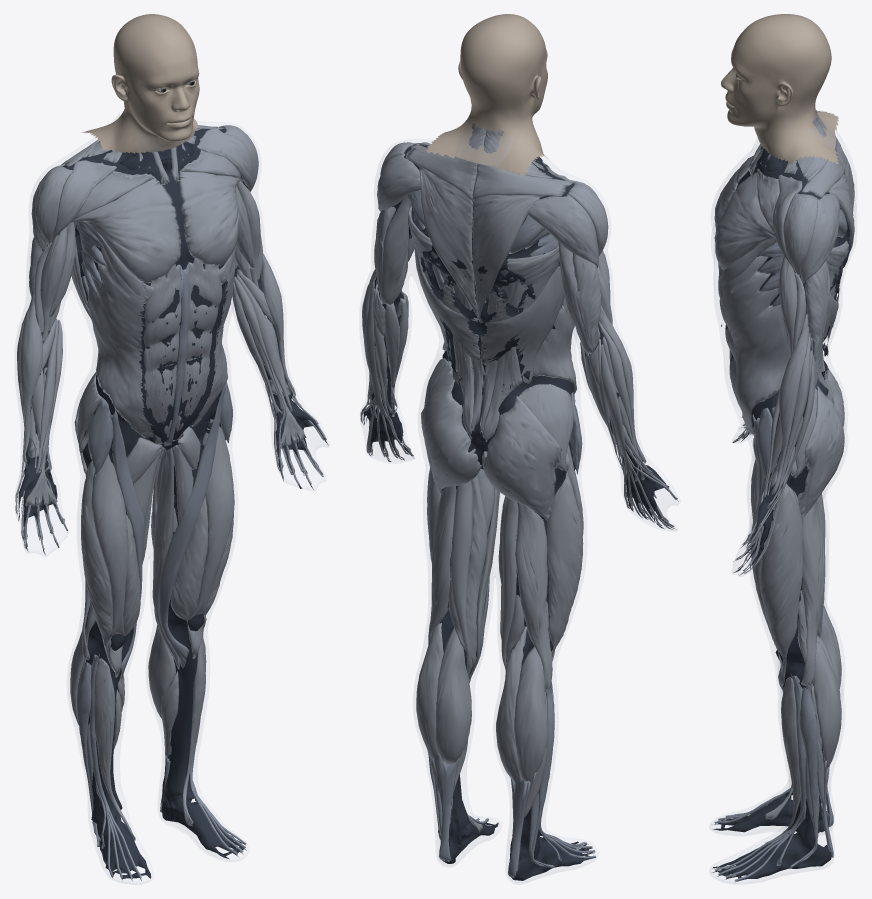
File: male.glb
The picture shows the model from 3 angles, left to right: view 1: azimuth 30°, elevation 25°; view 2: azimuth 150°, elevation 25°; view 3: azimuth 270°, elevation 25°; orthographic projection.
Parts seen in each view (by area): view 1: core, quads, other, forearms, chest_lower, head, obliques, abs, adductors, biceps, tibialis, delt_front (+5 smaller); view 2: hamstrings, core, traps_mid, calves, head, forearms, glute_max, lats, other, triceps, quads, lower_back (+7 smaller); view 3: head, core, obliques, other, quads, forearms, skin, chest_lower, hamstrings, calves, glute_max, traps_mid (+12 smaller).
Boxes of the visible parts, bbox=[...] form: core: bbox=[18, 129, 328, 880]; quads: bbox=[81, 418, 234, 677]; other: bbox=[73, 221, 246, 879]; forearms: bbox=[15, 253, 326, 549]; chest_lower: bbox=[71, 171, 240, 303]; head: bbox=[81, 14, 199, 153]; obliques: bbox=[87, 248, 235, 437]; abs: bbox=[143, 257, 221, 444]; adductors: bbox=[121, 426, 200, 683]; biceps: bbox=[34, 181, 262, 340]; tibialis: bbox=[94, 634, 205, 840]; delt_front: bbox=[51, 128, 253, 243]; hamstrings: bbox=[428, 474, 552, 689]; core: bbox=[363, 145, 678, 880]; traps_mid: bbox=[406, 144, 572, 321]; calves: bbox=[416, 623, 547, 817]; head: bbox=[426, 14, 547, 175]; forearms: bbox=[360, 269, 677, 529]; glute_max: bbox=[421, 380, 561, 520]; lats: bbox=[408, 206, 564, 395]; other: bbox=[407, 190, 595, 877]; triceps: bbox=[374, 196, 601, 387]; quads: bbox=[427, 444, 583, 661]; lower_back: bbox=[432, 263, 524, 441]; head: bbox=[721, 14, 838, 164]; core: bbox=[712, 146, 850, 882]; obliques: bbox=[721, 256, 790, 434]; other: bbox=[714, 209, 847, 881]; quads: bbox=[750, 459, 803, 690]; forearms: bbox=[735, 313, 816, 573]; skin: bbox=[712, 130, 856, 835]; chest_lower: bbox=[714, 155, 776, 286]; hamstrings: bbox=[797, 493, 825, 687]; calves: bbox=[811, 605, 841, 804]; glute_max: bbox=[797, 369, 844, 518]; traps_mid: bbox=[801, 137, 854, 286].
Bounding box in the file's own units: 0.6666 × 1.69 × 0.2724.
